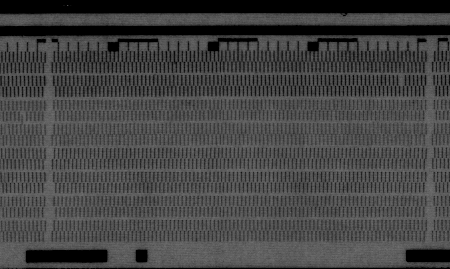Broken hole: (396, 74, 407, 87)
Oblique printing: (16, 112, 29, 127)
